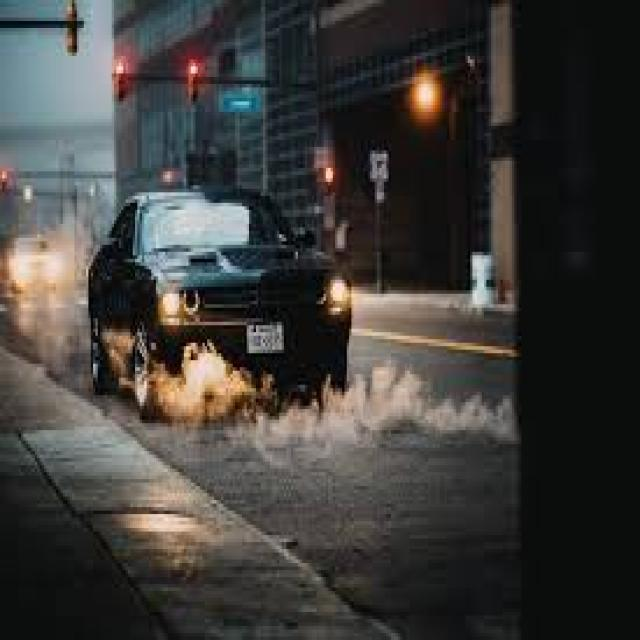Smoke: (256, 360, 424, 461), (161, 341, 259, 420), (422, 389, 516, 450)
